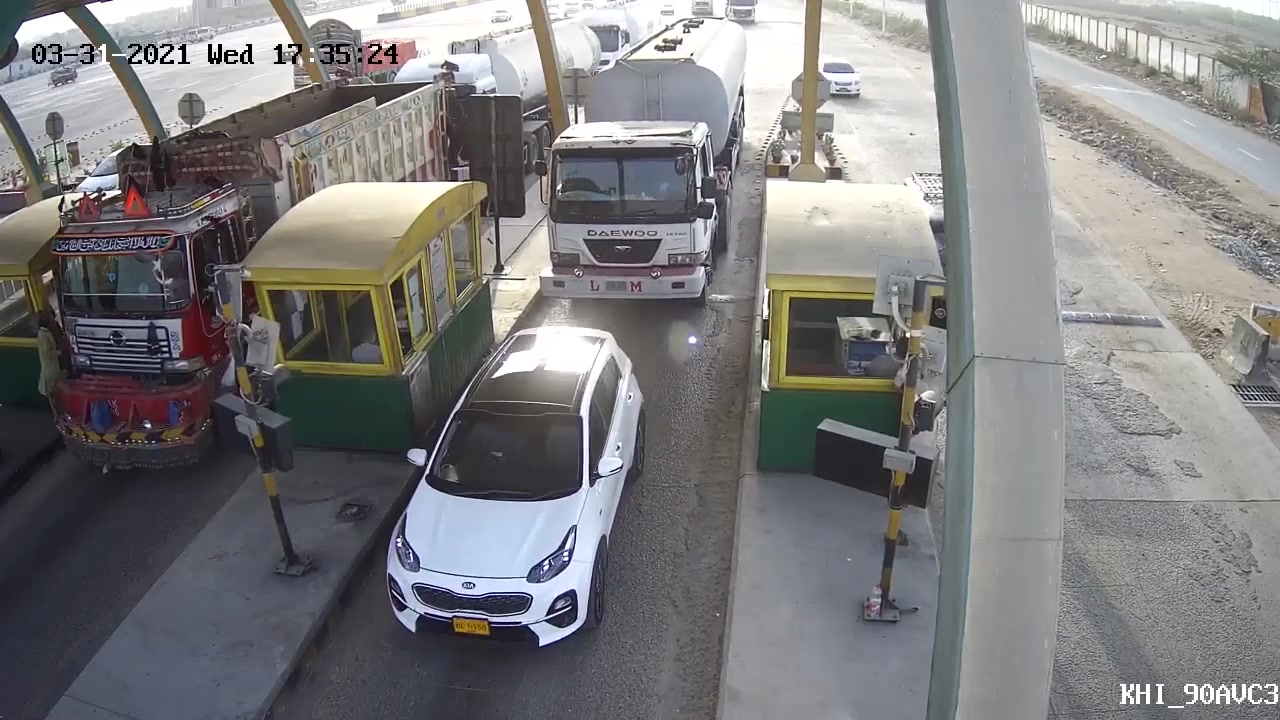F1: (389, 321, 650, 682)
F5: (537, 61, 733, 311)
